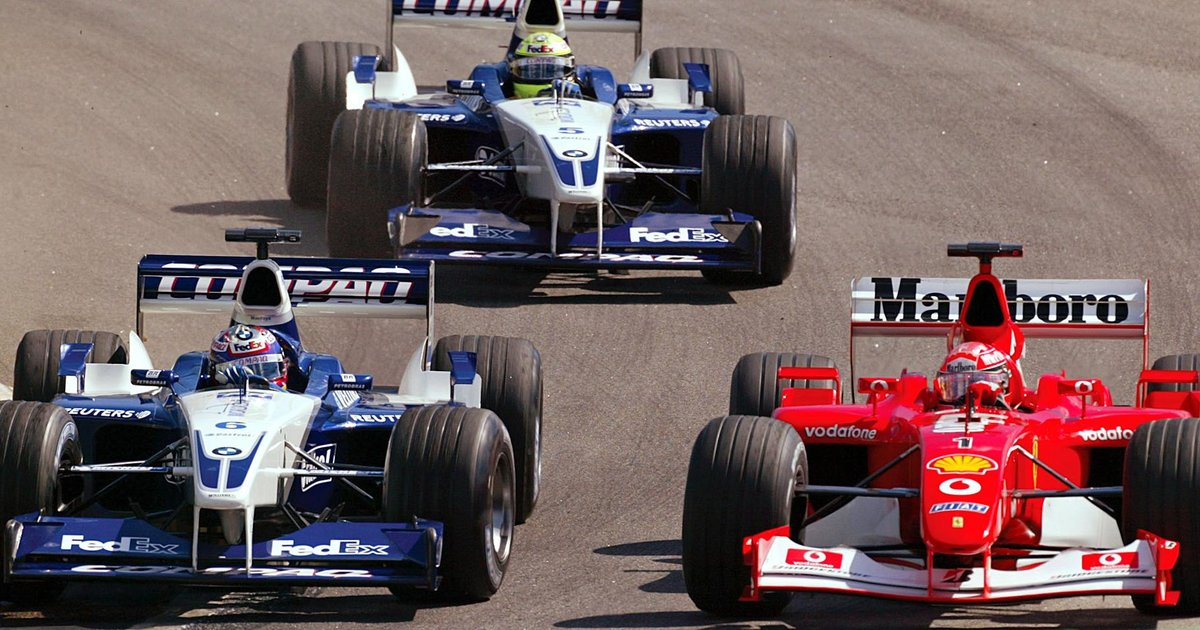Bobsleigh: (0, 252, 543, 601), (678, 274, 1200, 630), (287, 0, 798, 292)
